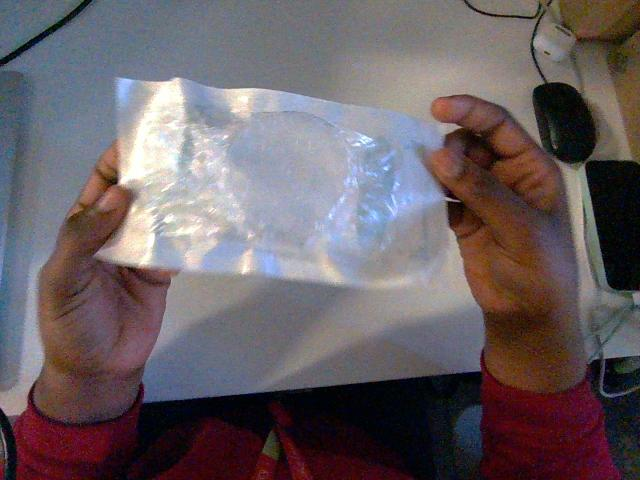gallipot: (99, 79, 446, 286)
